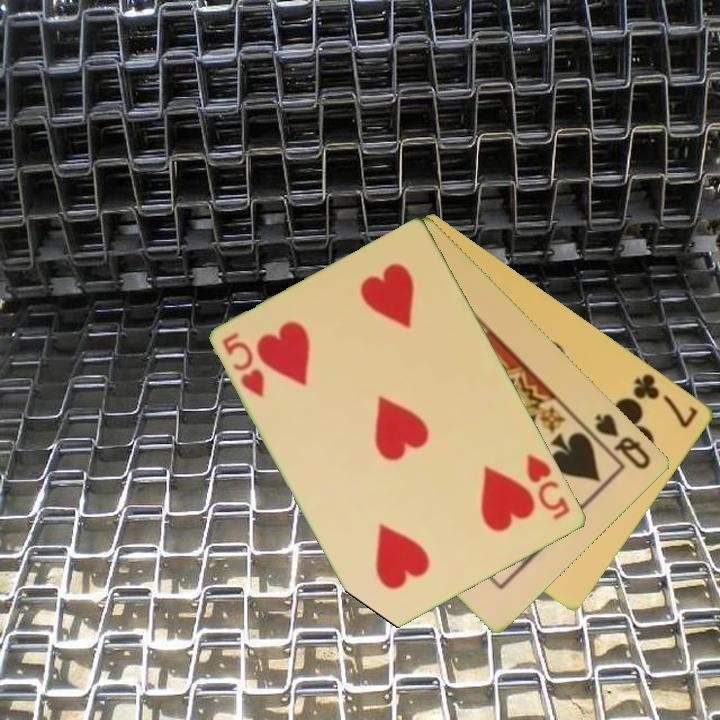5h: (523, 450, 574, 523), (219, 329, 269, 401)
7c: (630, 369, 702, 431)
Qs: (592, 410, 654, 473)
